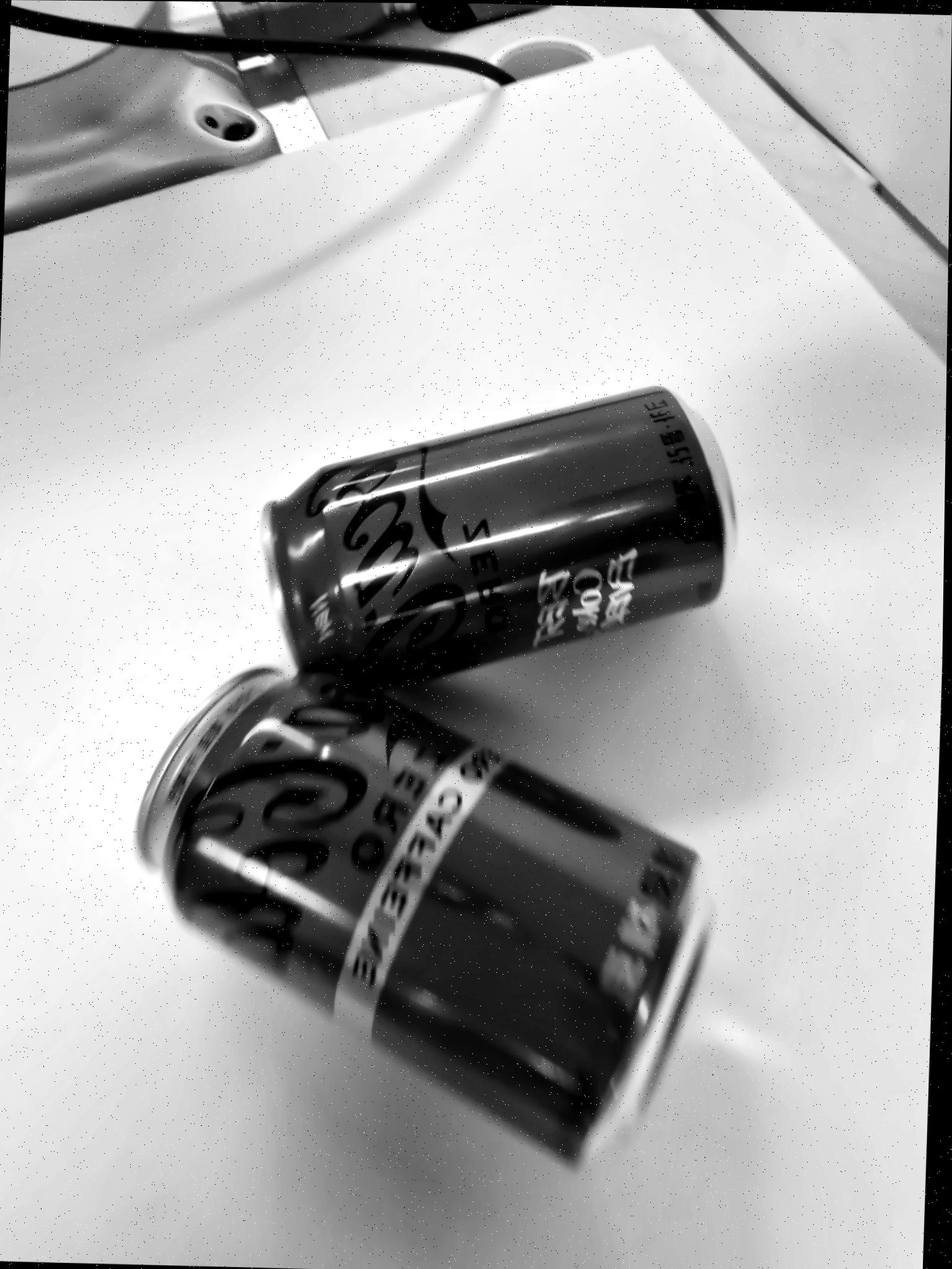can_coke_decaf: (145, 665, 717, 1160)
can_coke_zero: (264, 383, 743, 698)
